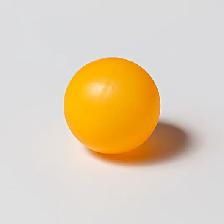YellowBall: (63, 57, 160, 153)
